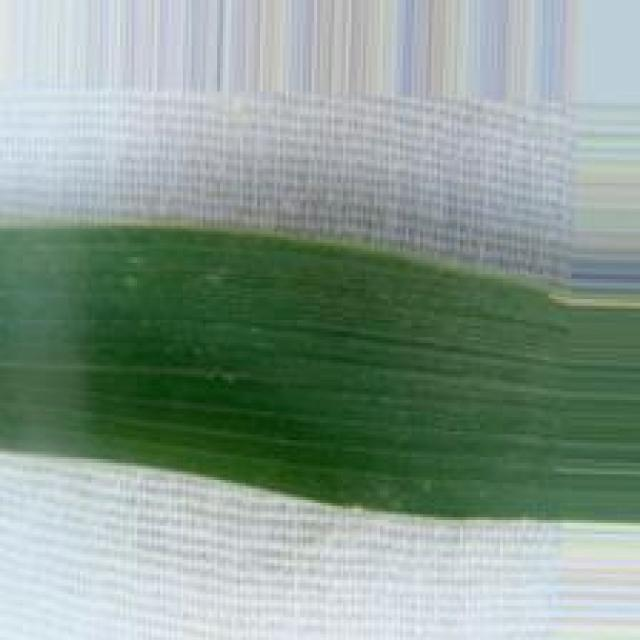Healthy: (0, 231, 640, 520)
